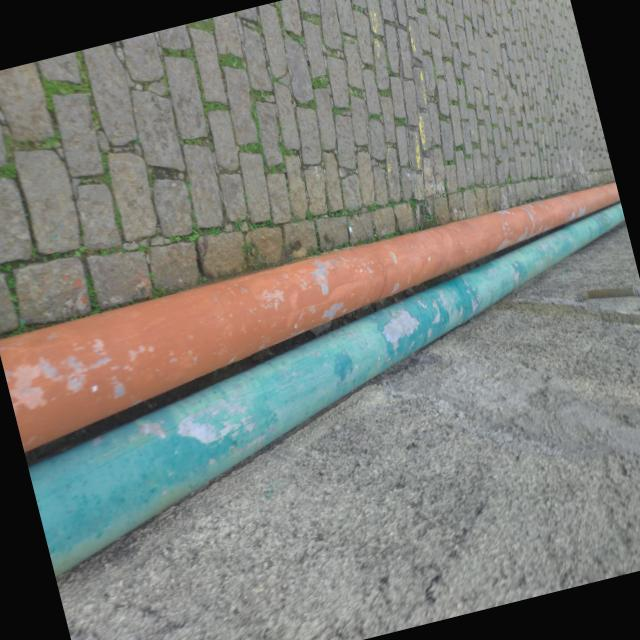gas: (28, 204, 625, 580), (0, 180, 620, 454)
